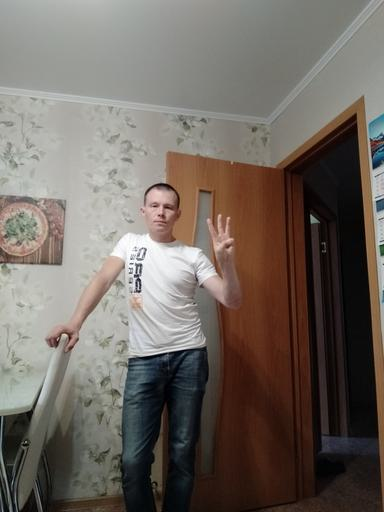three: (206, 213, 236, 262)
